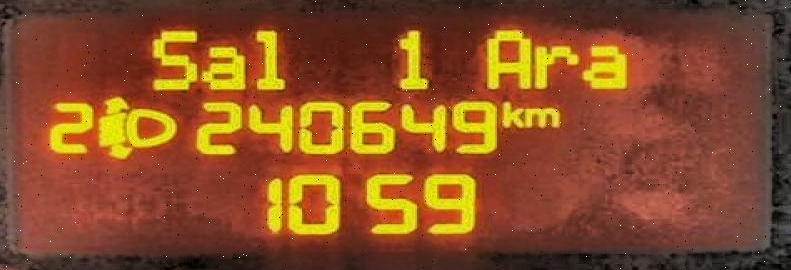0: (283, 171, 342, 235), (295, 96, 343, 155)
1: (393, 22, 437, 91), (261, 172, 285, 237)
2: (188, 99, 240, 158), (45, 97, 93, 156)
4: (243, 99, 293, 154), (397, 98, 447, 151)
5: (362, 170, 418, 235)
6: (350, 97, 395, 152)
9: (421, 170, 475, 236), (448, 97, 495, 156)
X: (150, 27, 200, 91), (481, 28, 530, 89), (250, 25, 285, 90), (530, 41, 578, 88), (580, 41, 626, 88), (201, 42, 245, 90), (523, 105, 560, 129), (500, 99, 523, 128)
